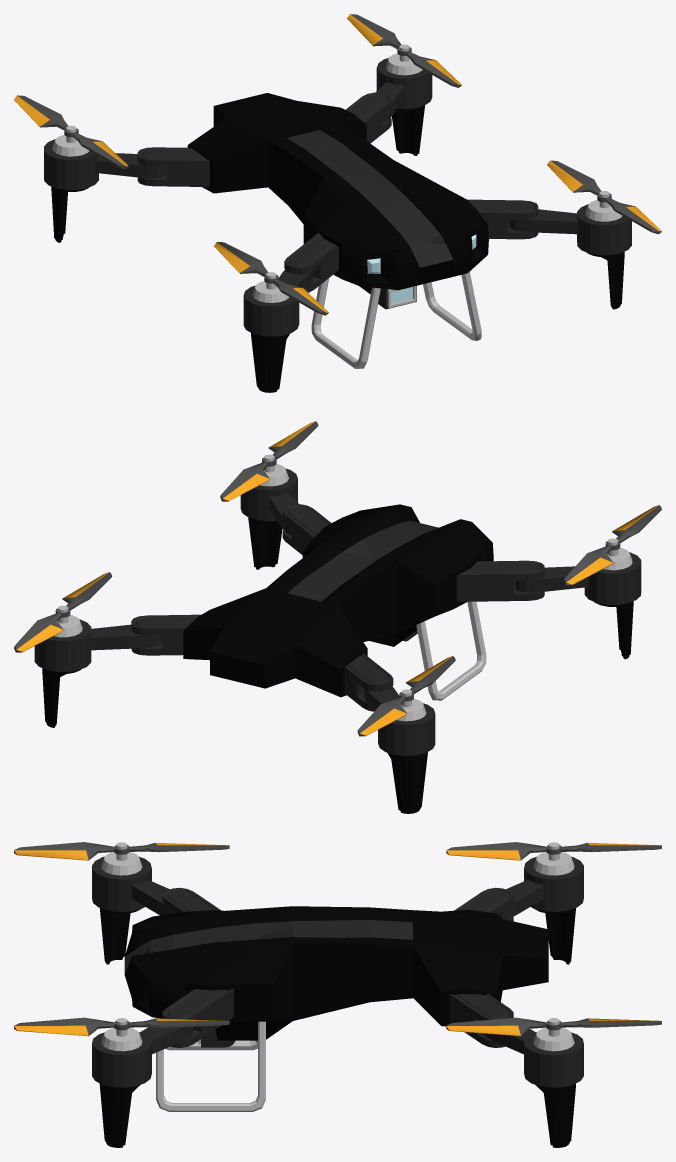
Rendered from drone.fbx.
The picture shows the model from 3 angles, top to bottom: view 1: azimuth 30°, elevation 25°; view 2: azimuth 150°, elevation 25°; view 3: azimuth 270°, elevation 25°; orthographic projection. The views are drawn at different scales.
Parts seen in each view (by area): view 1: Body, Rotor_BL, Rotor_BR, Rotor_FL, Rotor_FR; view 2: Body, Rotor_FR, Rotor_BL, Rotor_BR, Rotor_FL; view 3: Body, Rotor_BL, Rotor_FL, Rotor_FR, Rotor_BR.
Part boxes in pixels (x1,y1,x2,y2): Body: [44, 44, 631, 392]; Rotor_BL: [347, 14, 461, 87]; Rotor_BR: [14, 95, 128, 169]; Rotor_FL: [547, 160, 661, 234]; Rotor_FR: [214, 241, 328, 315]; Body: [34, 454, 641, 813]; Rotor_FR: [564, 505, 661, 585]; Rotor_BL: [14, 572, 111, 652]; Rotor_BR: [357, 656, 455, 736]; Rotor_FL: [220, 421, 318, 501]; Body: [92, 842, 583, 1147]; Rotor_BL: [446, 1017, 661, 1036]; Rotor_FL: [14, 1017, 229, 1036]; Rotor_FR: [14, 842, 229, 860]; Rotor_BR: [446, 842, 661, 860].
Bounding box in the file's own units: 0.4552 × 0.1647 × 0.62.
Materials: 1 (1 with a texture image).
